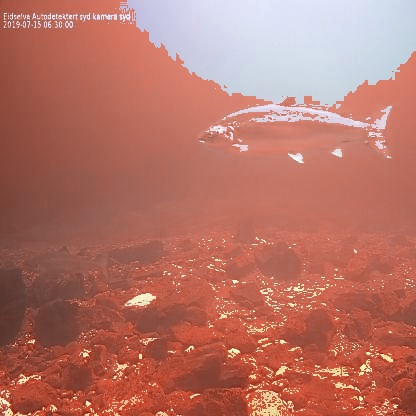salmon: (194, 93, 398, 170), (20, 242, 110, 284)
